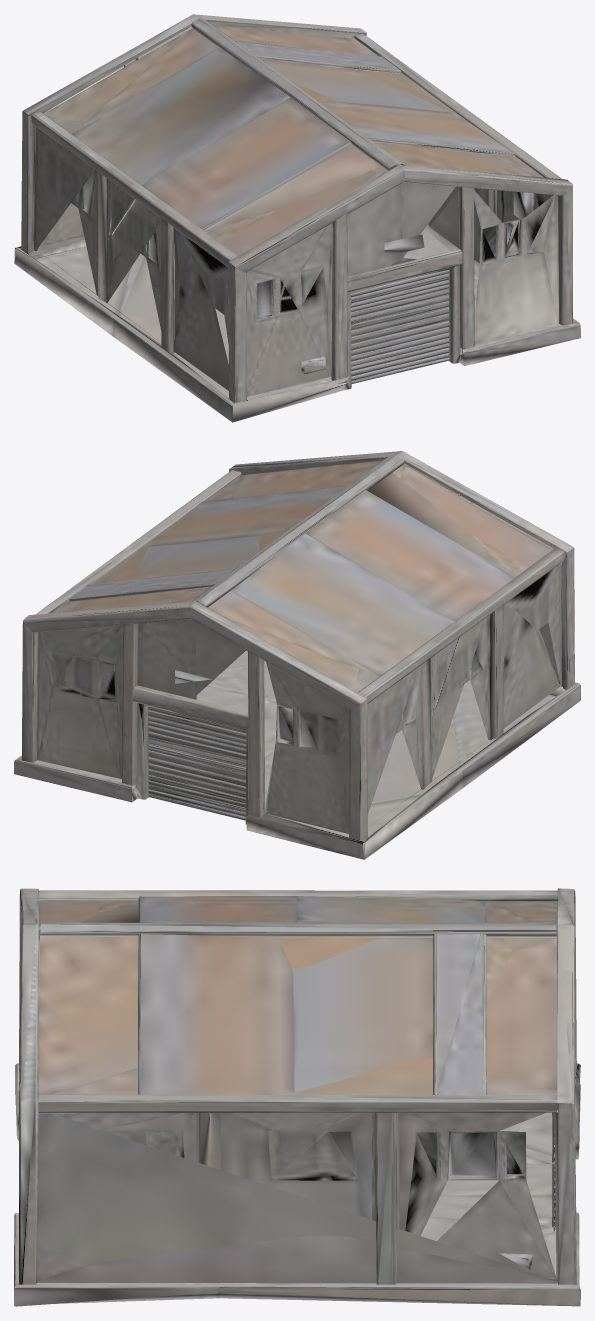
File: 20-warehouse.glb
3 views of the same model, one above another, from view 1: azimuth 30°, elevation 25°; view 2: azimuth 150°, elevation 25°; view 3: azimuth 270°, elevation 25° (orthographic). The views are drawn at different scales.
Parts seen in each view (by area): view 1: geometry_0; view 2: geometry_0; view 3: geometry_0.
Part boxes in pixels (<box>): geometry_0: <box>14,14,580,422</box>; geometry_0: <box>14,451,580,859</box>; geometry_0: <box>14,888,580,1306</box>.
Bounding box in the file's own units: 0.8799 × 0.502 × 0.9482.
Materials: 1 (1 with a texture image).
